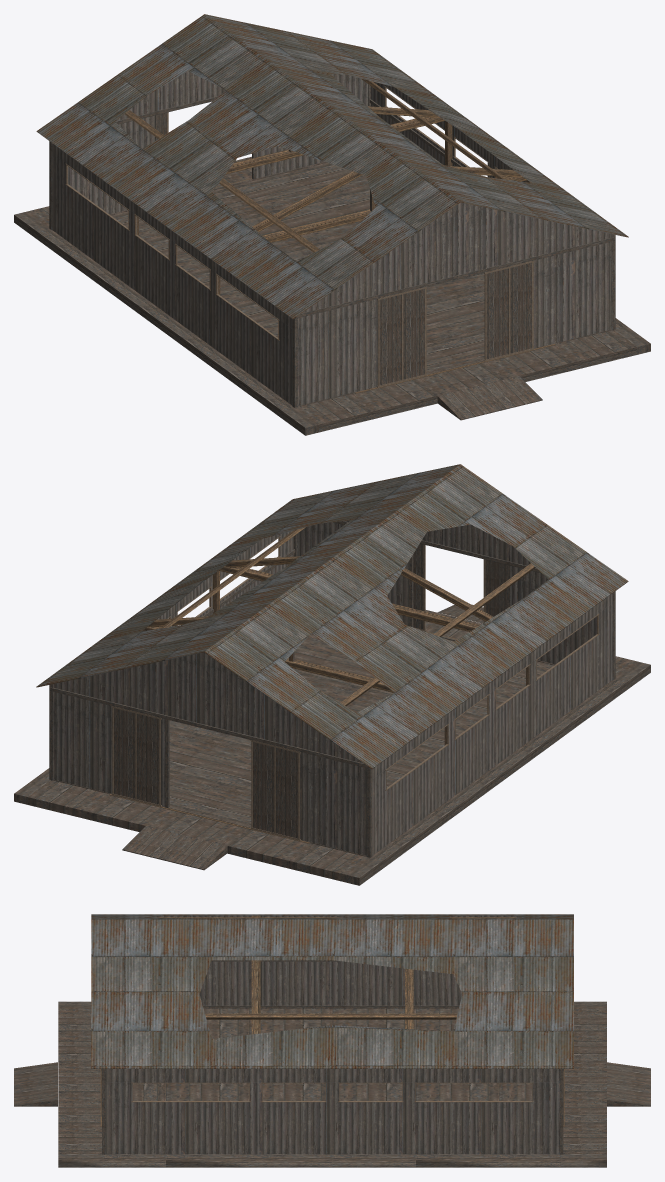
File: Building_Ck04_2048_lod1.glb
3 renders of one model, top to bottom at view 1: azimuth 30°, elevation 25°; view 2: azimuth 150°, elevation 25°; view 3: azimuth 270°, elevation 25°, orthographic. The views are drawn at different scales.
Visible parts, largest first — view 1: xiutz_ck_04_lod1; view 2: xiutz_ck_04_lod1; view 3: xiutz_ck_04_lod1.
Boxes of the visible parts, x1,y1,x2,y2 form: xiutz_ck_04_lod1: (14, 14, 650, 435); xiutz_ck_04_lod1: (14, 464, 650, 885); xiutz_ck_04_lod1: (14, 914, 650, 1167).
Size of the model in its own units: 18.24 by 9.03 by 30.93.
Materials: 1 (1 with a texture image).
